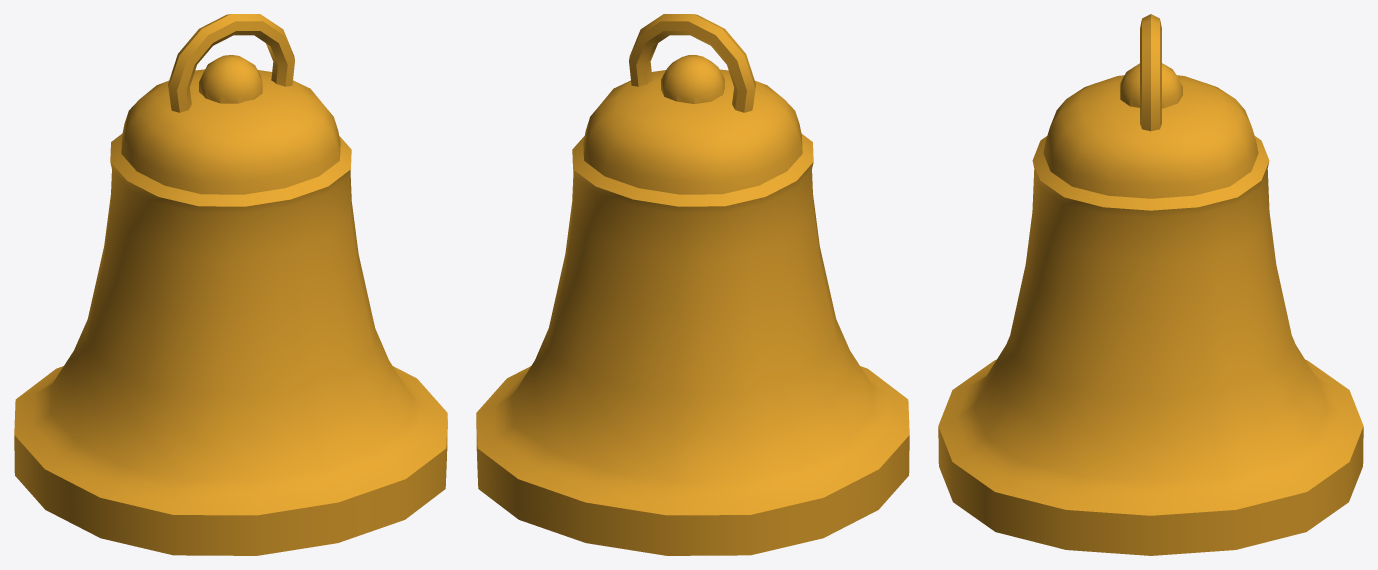
File: Bell.glb
3 views of the same model, side by side, from view 1: azimuth 30°, elevation 25°; view 2: azimuth 150°, elevation 25°; view 3: azimuth 270°, elevation 25° (orthographic).
Parts seen in each view (by area): view 1: Bell; view 2: Bell; view 3: Bell.
Boxes of the visible parts, <box> form: Bell: <box>14,14,447,555</box>; Bell: <box>476,14,909,555</box>; Bell: <box>938,14,1363,555</box>.
Bounding box in the file's own units: 0.6331 × 0.7325 × 0.6331.
